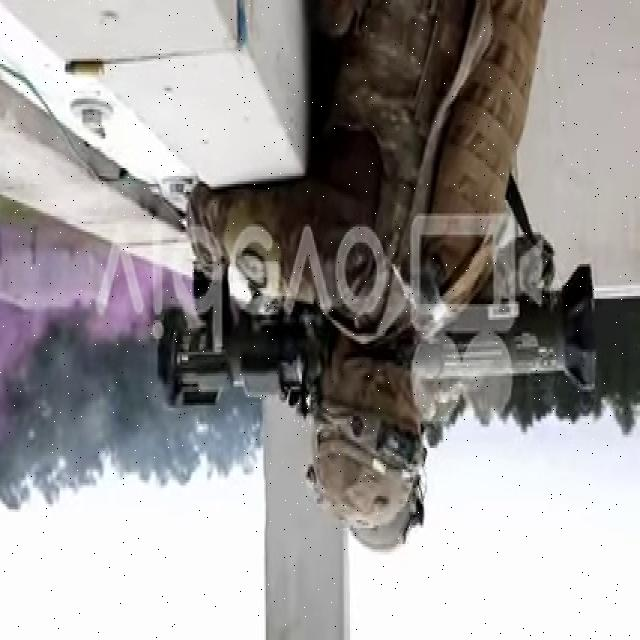bazooka: (157, 258, 603, 428)
